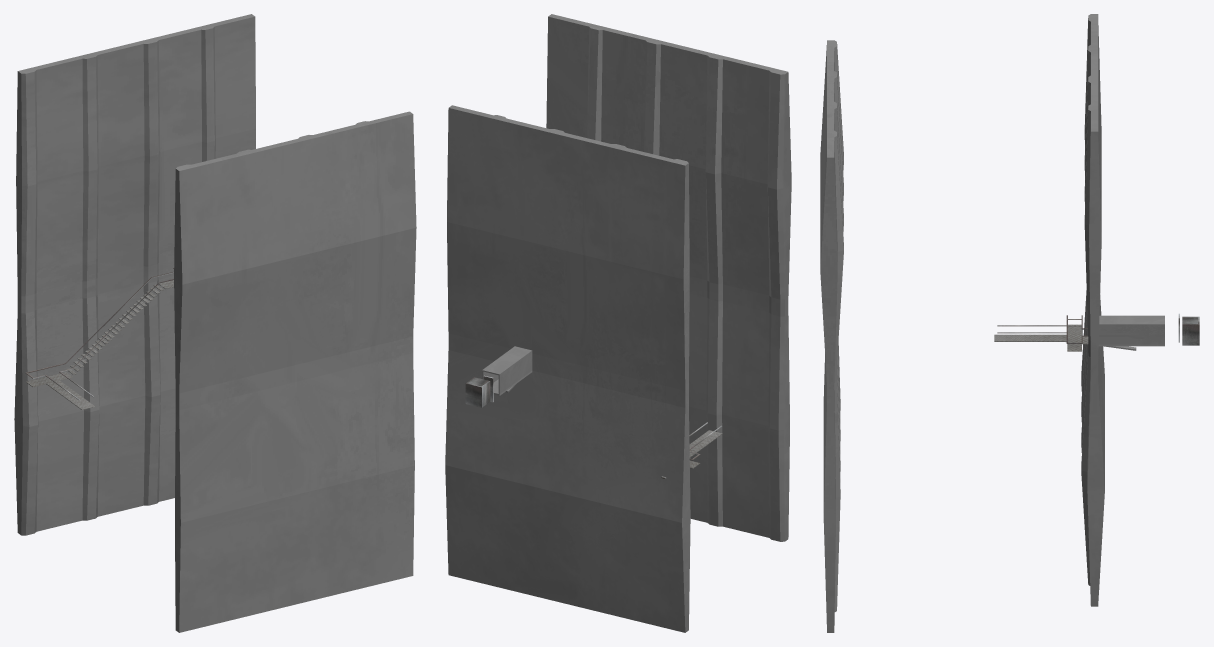
Rendered from BIGWall.glb.
The picture shows the model from 3 angles, left to right: view 1: azimuth 30°, elevation 25°; view 2: azimuth 150°, elevation 25°; view 3: azimuth 270°, elevation 25°; orthographic projection. The views are drawn at different scales.
Parts seen in each view (by area): view 1: Cube.005, Cube.001, Cube.002, Cube.004; view 2: Cube.001, Cube.005, Cube.006, Cube.007; view 3: Cube.005, Cube.001, Cube.006, Cube.002, Cube.007.
Boxes of the visible parts, box(x1,y1,x2,y2) form: Cube.005: box(174, 111, 416, 632); Cube.001: box(14, 14, 255, 535); Cube.002: box(26, 280, 173, 409); Cube.004: box(25, 268, 174, 400); Cube.001: box(445, 105, 690, 632); Cube.005: box(546, 14, 791, 541); Cube.006: box(482, 346, 532, 395); Cube.007: box(465, 377, 490, 407); Cube.005: box(820, 40, 843, 632); Cube.001: box(1081, 14, 1104, 606); Cube.006: box(1098, 315, 1164, 346); Cube.002: box(994, 324, 1088, 351); Cube.007: box(1182, 316, 1199, 345).
Bounding box in the file's own units: 85.94 × 147 × 104.
3 materials, 3 textured.
